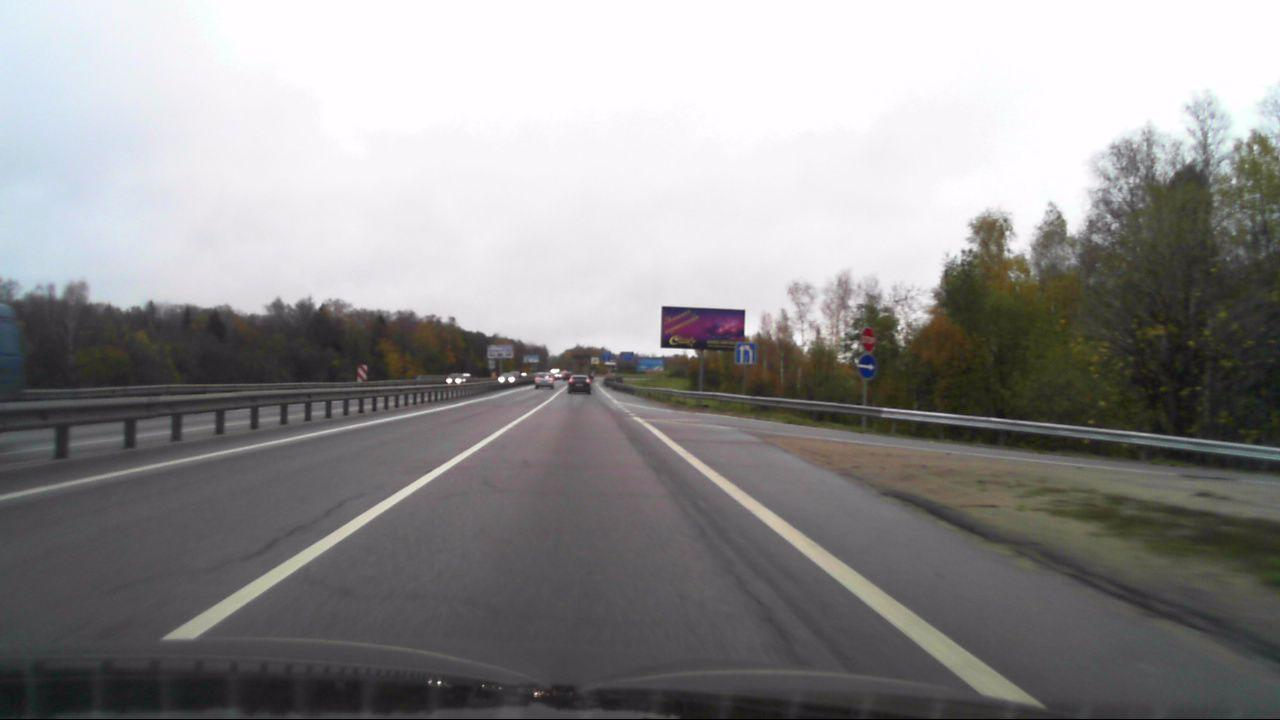2_5: (860, 326, 877, 352)
4_1_1: (857, 354, 877, 379)
5_15_5: (736, 341, 757, 365)
